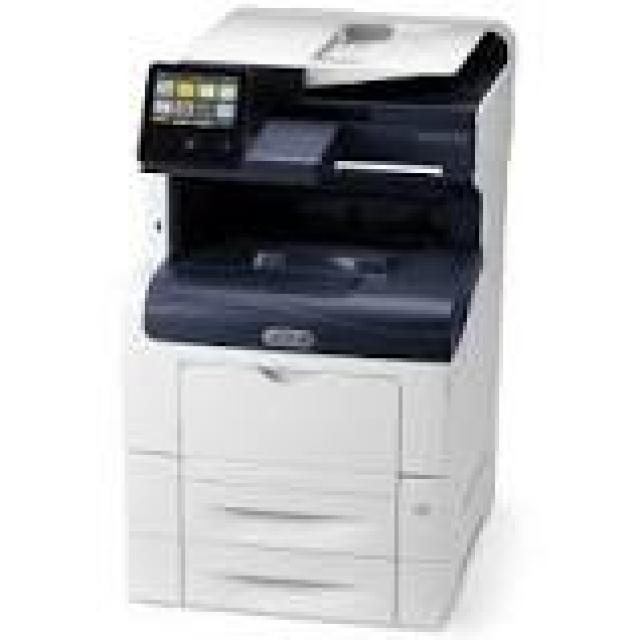printer: (110, 0, 526, 640)
